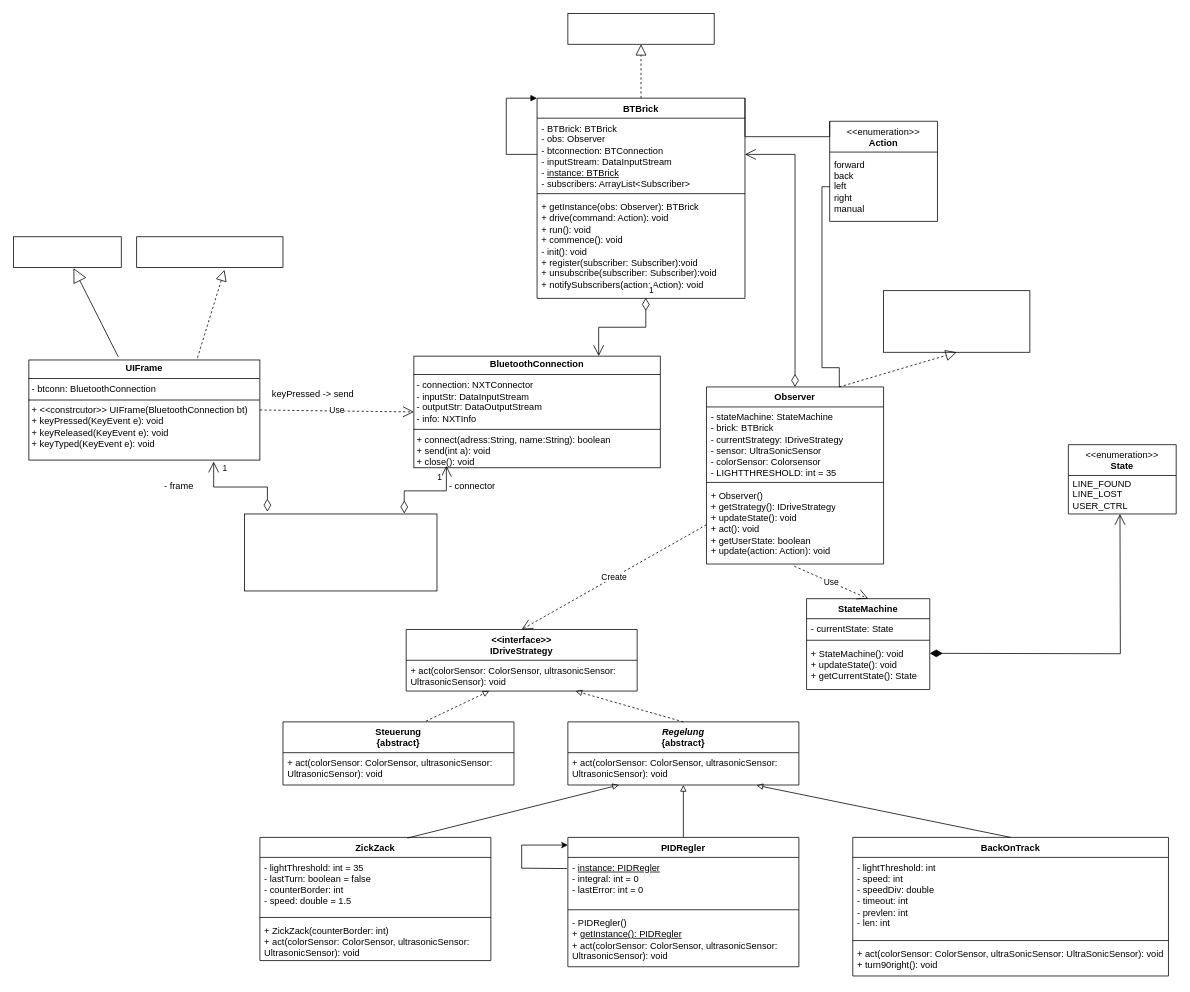
This 1190x992 diagram has some shape labels left out. The shapes that lost their labels are listed below. From the top down, each one's centre as x and y in pixels, then its label:
(640,28): <<Interface>> java.lang.Runnable
(67,252): javax.swing.JFrame
(209,252): <<Interface>> java.awt.event.KeyListener
(956,321): <<Interface>> Subscriber + update(action: Action): void
(340,552): Main - setup(): void + main(): void
